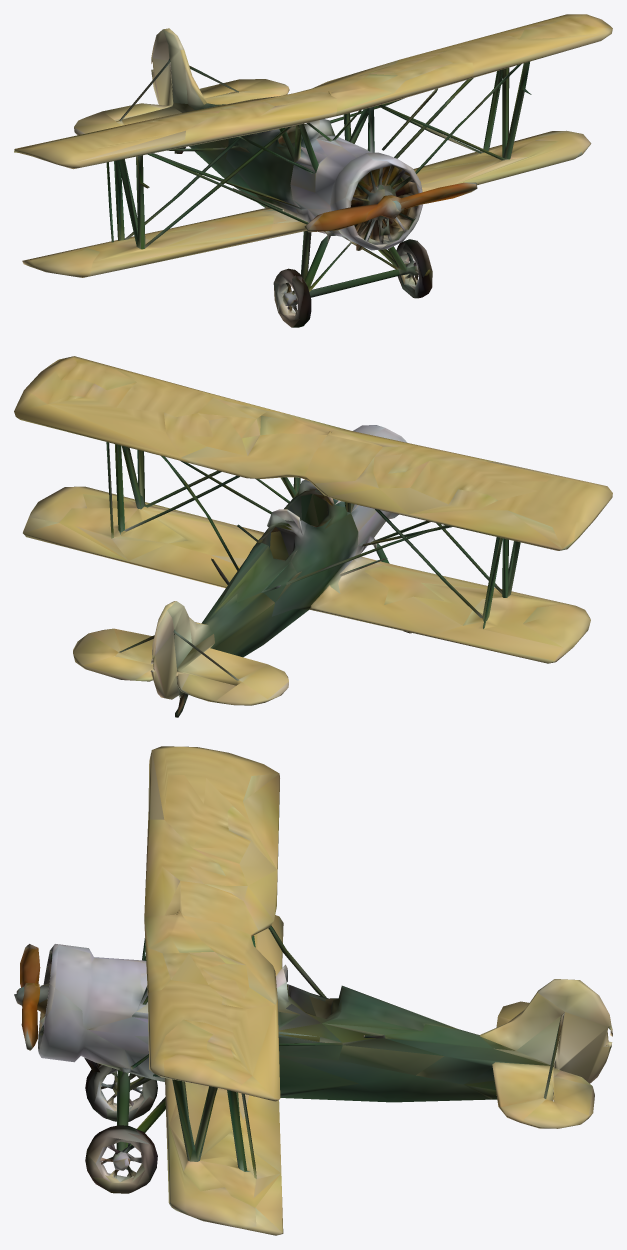
File: biplane.glb
The picture shows the model from 3 angles, top to bottom: view 1: azimuth 30°, elevation 25°; view 2: azimuth 150°, elevation 25°; view 3: azimuth 270°, elevation 25°; orthographic projection. The views are drawn at different scales.
Parts seen in each view (by area): view 1: LO.001; view 2: LO.001; view 3: LO.001.
Part boxes in pixels (<box>): LO.001: <box>14,14,612,327</box>; LO.001: <box>14,356,612,717</box>; LO.001: <box>14,746,612,1235</box>.
Bounding box in the file's own units: 8.99 × 3.17 × 6.81.
Materials: 1 (1 with a texture image).
